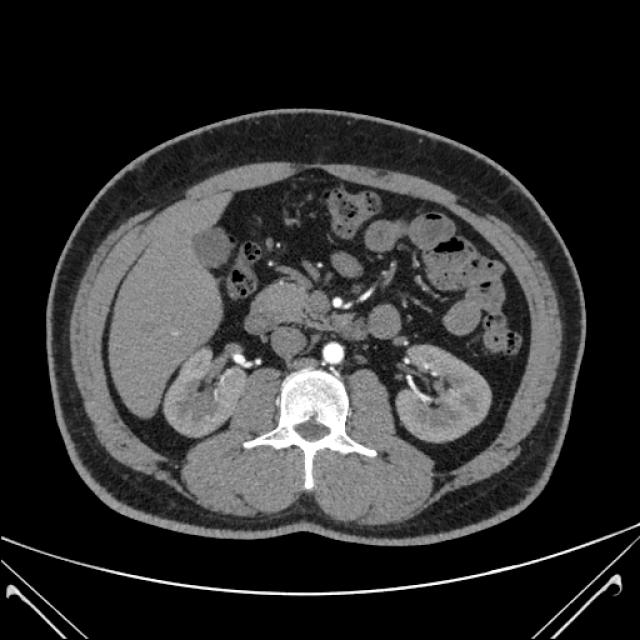Kidney: (55, 83, 640, 550)
